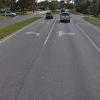Car: (42, 10, 54, 20)
